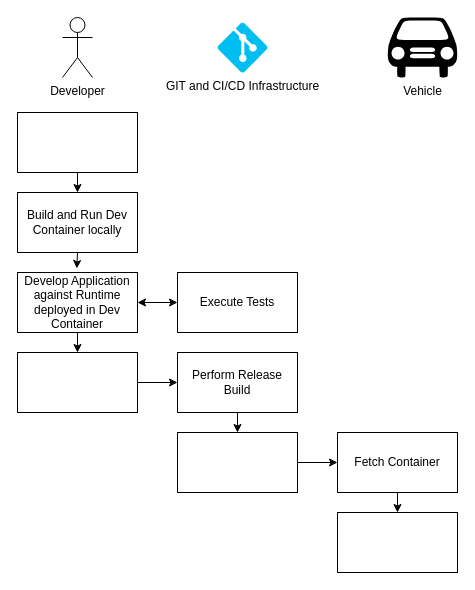
The diagram is 475 pixels wide and 590 high, and some of its shapes have lost their labels. The centre of each missing label's shape, as x and y in pixels:
"Create Repository from Template or CLI" belongs at (77,142).
"Execute Container" belongs at (397,542).
"Released Container Image Available" belongs at (237,462).
"Trigger Release" belongs at (77,382).
